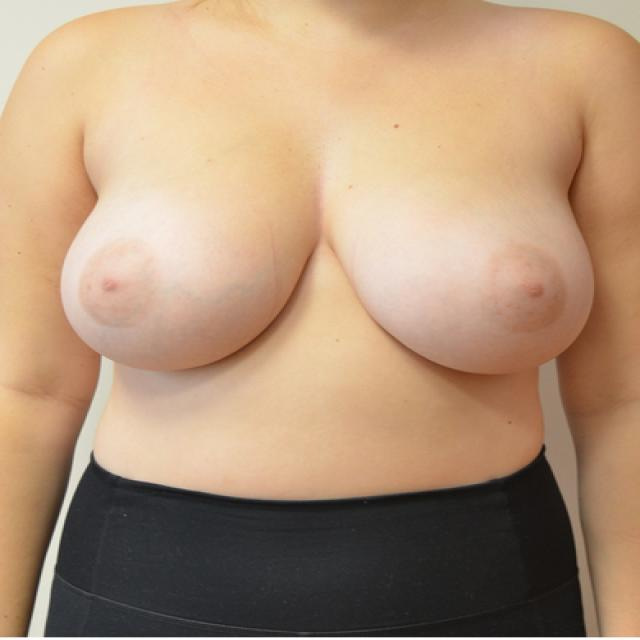Seno ileso: (324, 128, 604, 394), (52, 129, 320, 391)
